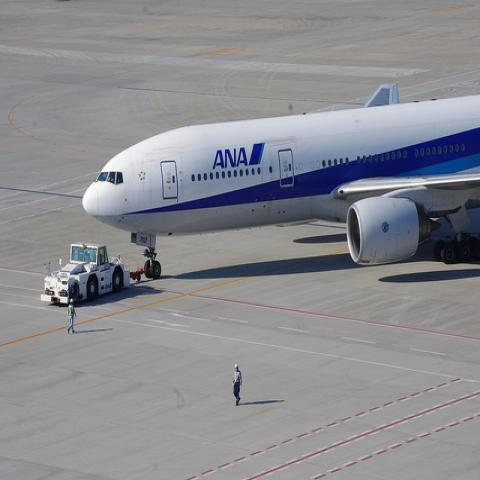truck: (40, 241, 150, 304)
